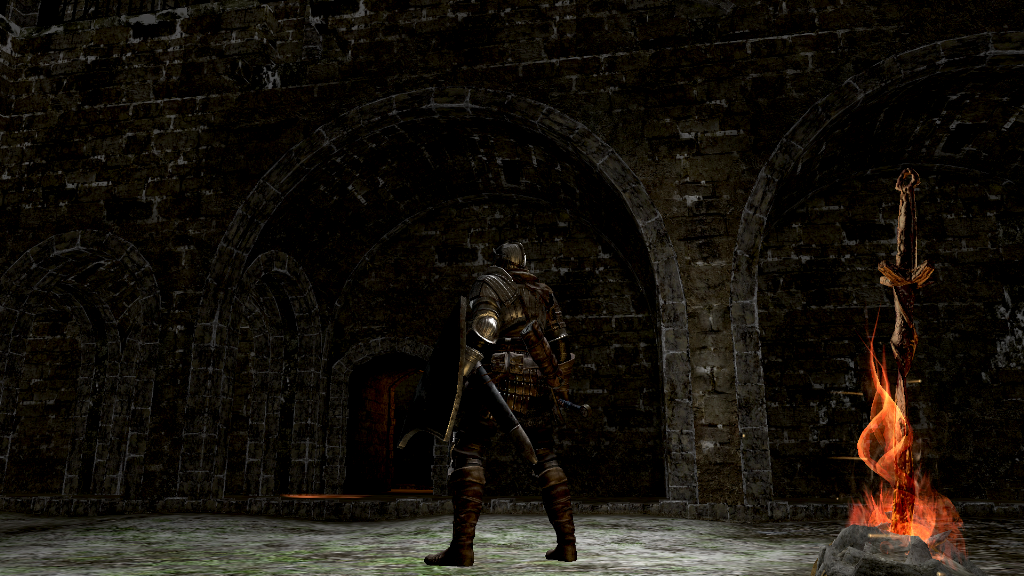bonfire: (829, 163, 969, 573)
player: (398, 240, 594, 567)
